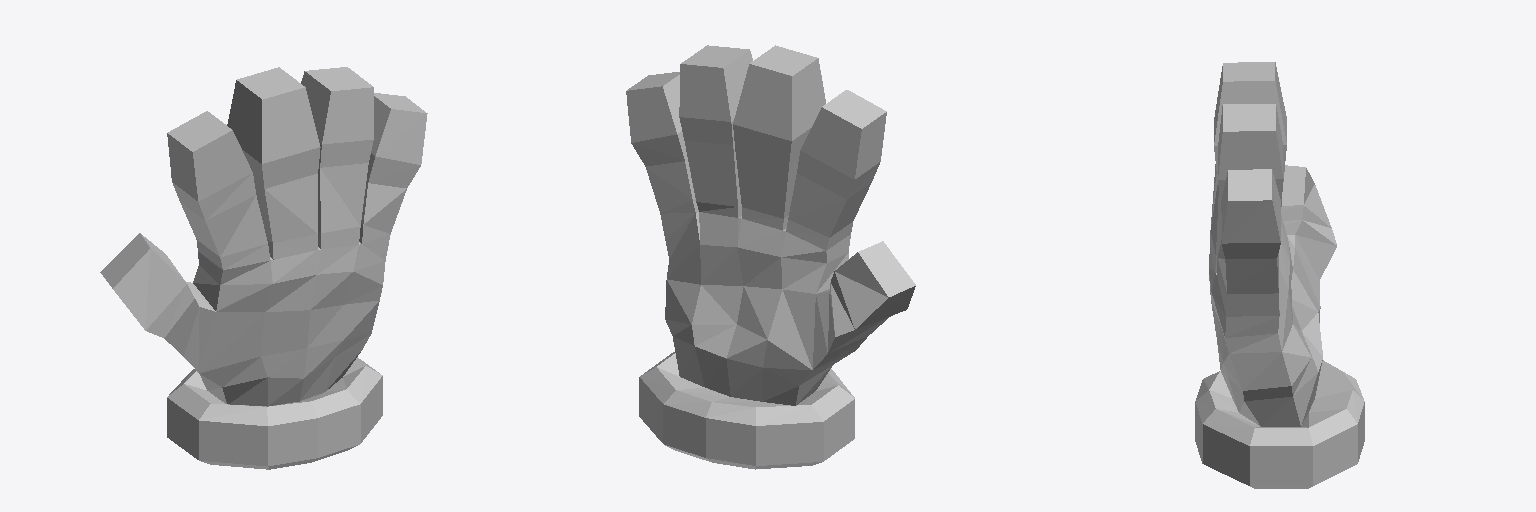
The model's file is hand02.obj.
3 views of the same model, side by side, from view 1: azimuth 30°, elevation 25°; view 2: azimuth 150°, elevation 25°; view 3: azimuth 270°, elevation 25° (orthographic).
Visible parts, largest first — view 1: Cube_Cube; view 2: Cube_Cube; view 3: Cube_Cube.
Part boxes in pixels (bbox=[...]): Cube_Cube: bbox=[100, 67, 427, 469]; Cube_Cube: bbox=[626, 45, 915, 469]; Cube_Cube: bbox=[1195, 62, 1364, 488].
Size of the model in its own units: 14.34 by 17.44 by 7.22.